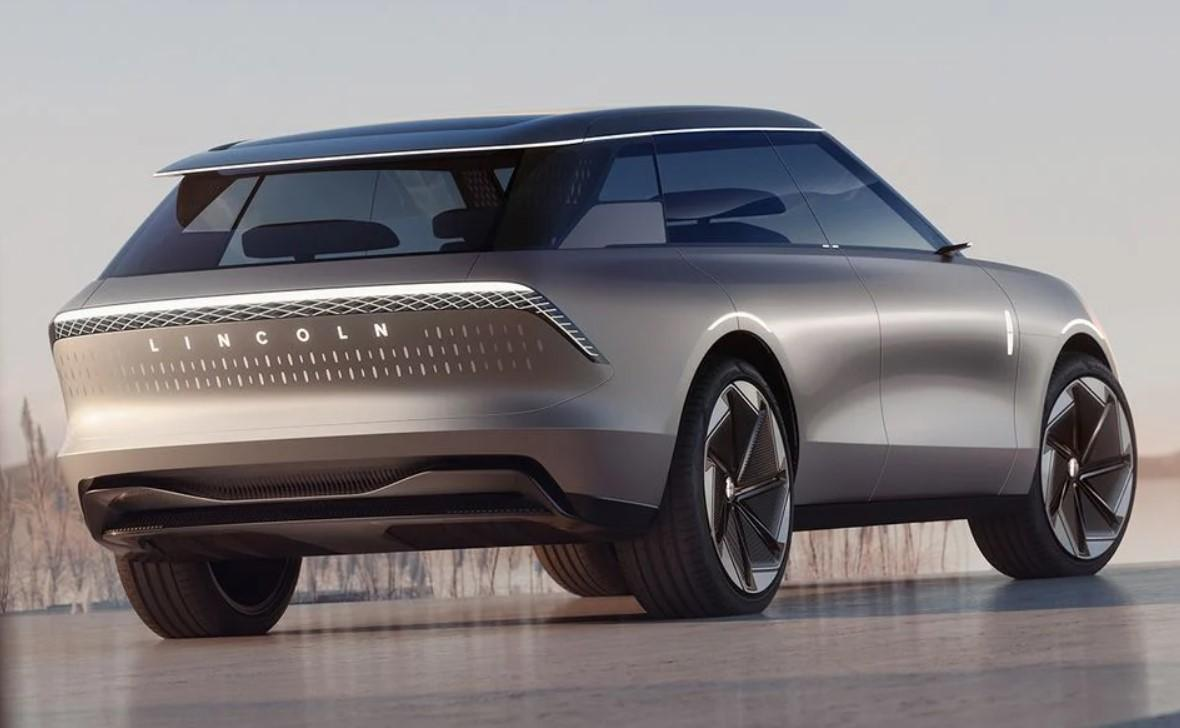lincoln: (142, 314, 395, 369)
